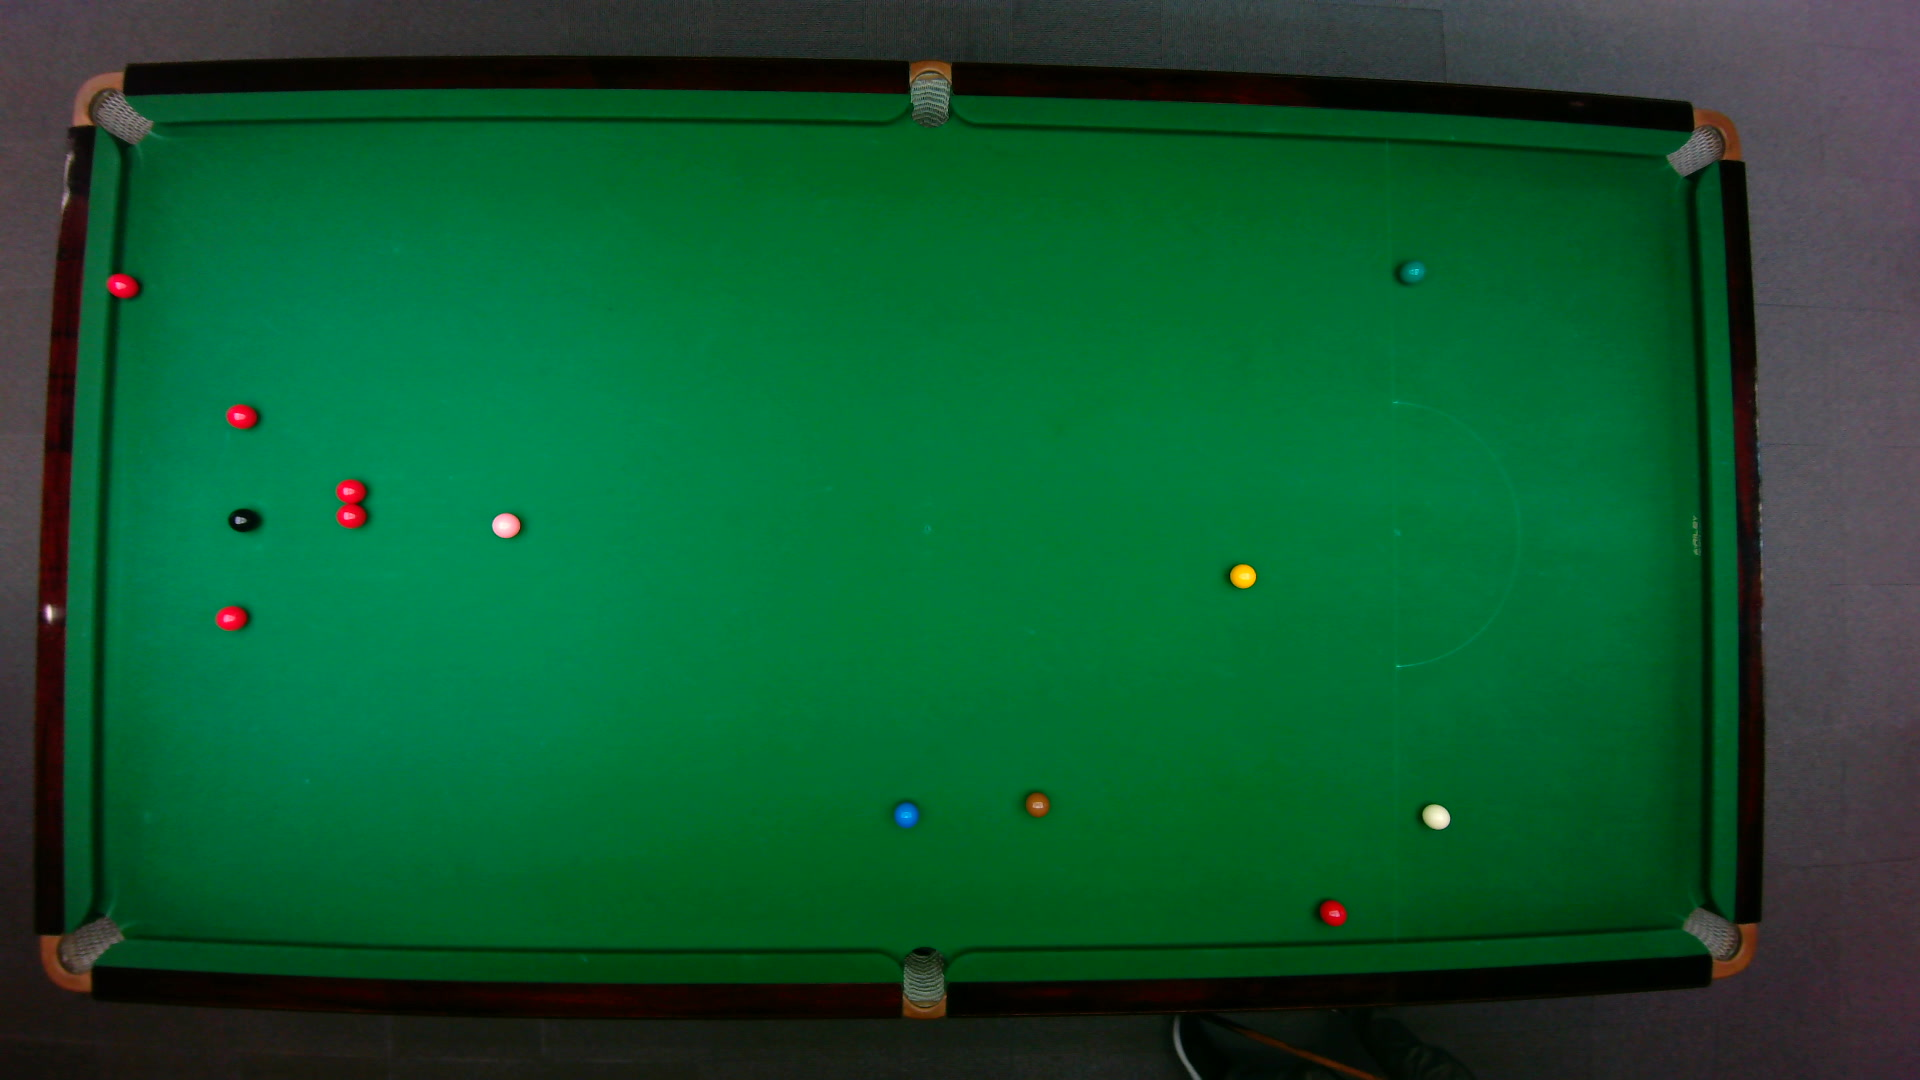bag: (38, 914, 125, 993), (69, 69, 153, 145), (1677, 905, 1756, 977), (1663, 107, 1741, 178), (901, 944, 944, 1021), (909, 57, 949, 128)
black: (225, 506, 258, 531)
blue: (891, 800, 919, 828)
brown: (1023, 791, 1050, 818)
green: (1396, 258, 1425, 284)
pink: (489, 509, 521, 541)
red: (212, 603, 248, 632), (103, 270, 138, 299), (334, 476, 368, 502), (1317, 898, 1348, 927), (224, 402, 257, 429), (334, 502, 367, 529)
white: (1419, 802, 1451, 829)
yellow: (1226, 560, 1255, 588)
zone: (1390, 400, 1520, 669)
